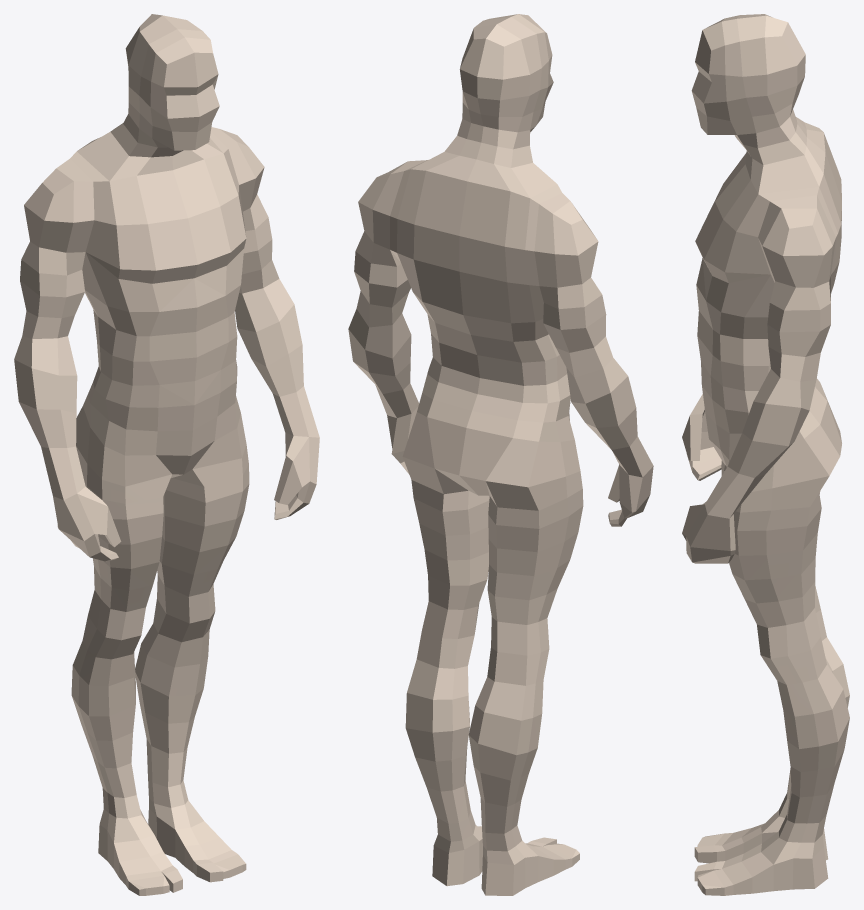
The picture shows the model from 3 angles, left to right: view 1: azimuth 30°, elevation 25°; view 2: azimuth 150°, elevation 25°; view 3: azimuth 270°, elevation 25°; orthographic projection.
Visible parts, largest first — view 1: Male_Cube_Cube.000; view 2: Male_Cube_Cube.000; view 3: Male_Cube_Cube.000.
Part boxes in pixels (x1,y1,x2,y2): Male_Cube_Cube.000: (14, 14, 319, 895); Male_Cube_Cube.000: (348, 14, 653, 895); Male_Cube_Cube.000: (682, 14, 849, 895).
Size of the model in its own units: 55.35 by 168 by 30.02.
